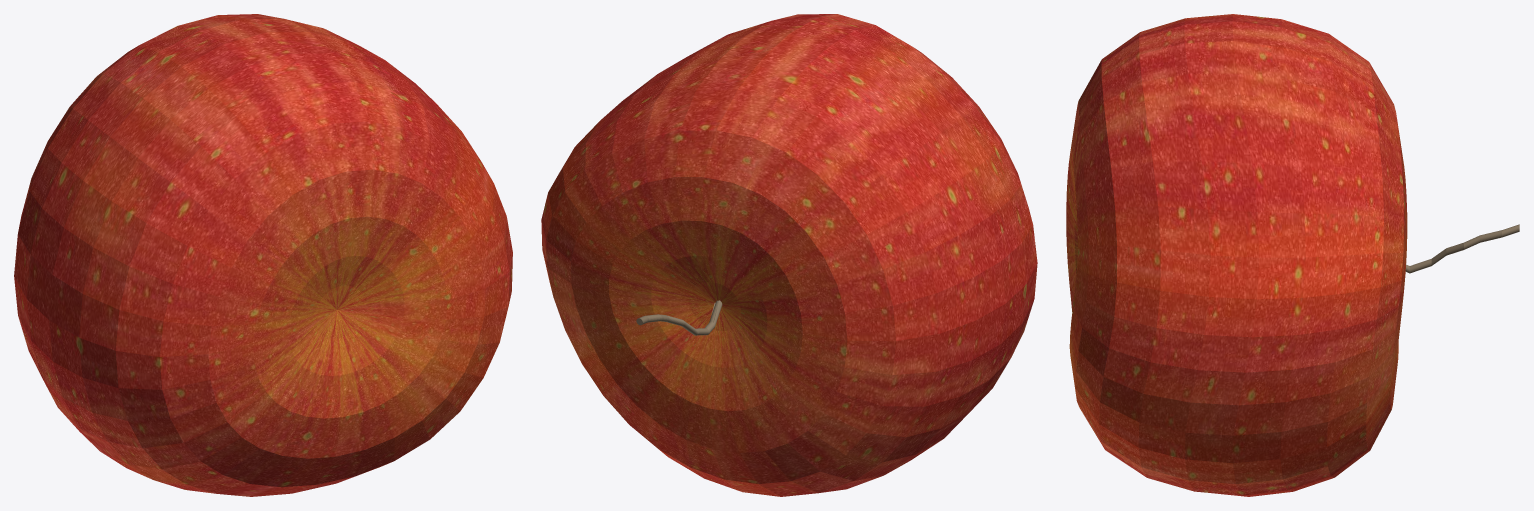
Rendered from apple.glb.
3 renders of one model, left to right at view 1: azimuth 30°, elevation 25°; view 2: azimuth 150°, elevation 25°; view 3: azimuth 270°, elevation 25°, orthographic. The views are drawn at different scales.
Visible parts, largest first — view 1: Sphere; view 2: Sphere, Cylinder; view 3: Sphere, Cylinder.
Part boxes in pixels (x1,y1,x2,y2): Sphere: (14,14,512,496); Sphere: (541,14,1037,496); Cylinder: (636,300,722,335); Sphere: (1066,14,1407,496); Cylinder: (1405,224,1519,273).
Bounding box in the file's own units: 2.01 × 1.96 × 1.87.
2 materials, 1 textured.
